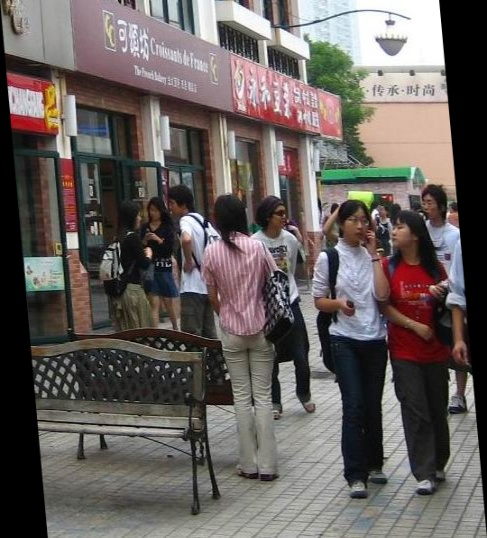person: (299, 187, 399, 506), (202, 196, 293, 484), (378, 201, 459, 505), (99, 198, 156, 347), (140, 195, 181, 321)
